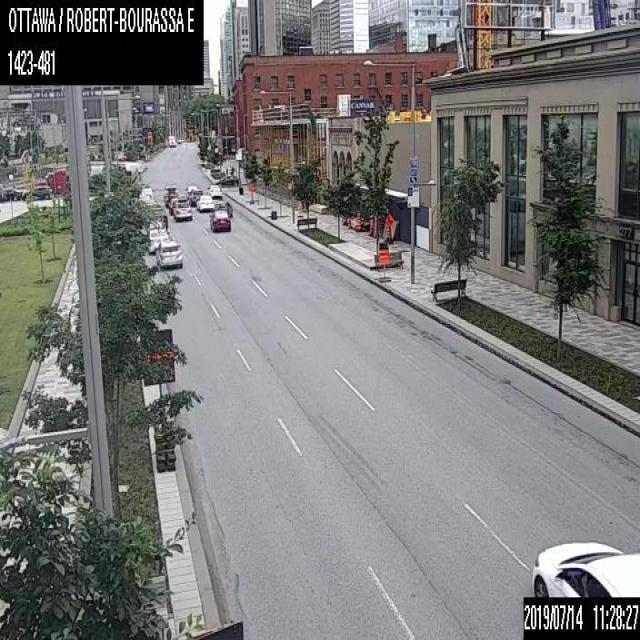construction: (139, 328, 175, 471), (377, 248, 389, 283), (382, 215, 393, 241), (354, 209, 361, 231), (368, 213, 374, 235), (297, 200, 302, 217)
vehicle: (529, 539, 639, 596), (155, 239, 183, 268), (172, 193, 192, 221), (146, 228, 168, 252), (209, 208, 230, 232), (21, 184, 50, 198), (163, 182, 177, 207), (213, 200, 232, 217), (196, 194, 213, 211), (167, 191, 179, 214), (187, 188, 203, 205), (206, 183, 223, 198), (247, 180, 254, 202), (168, 134, 176, 147)
